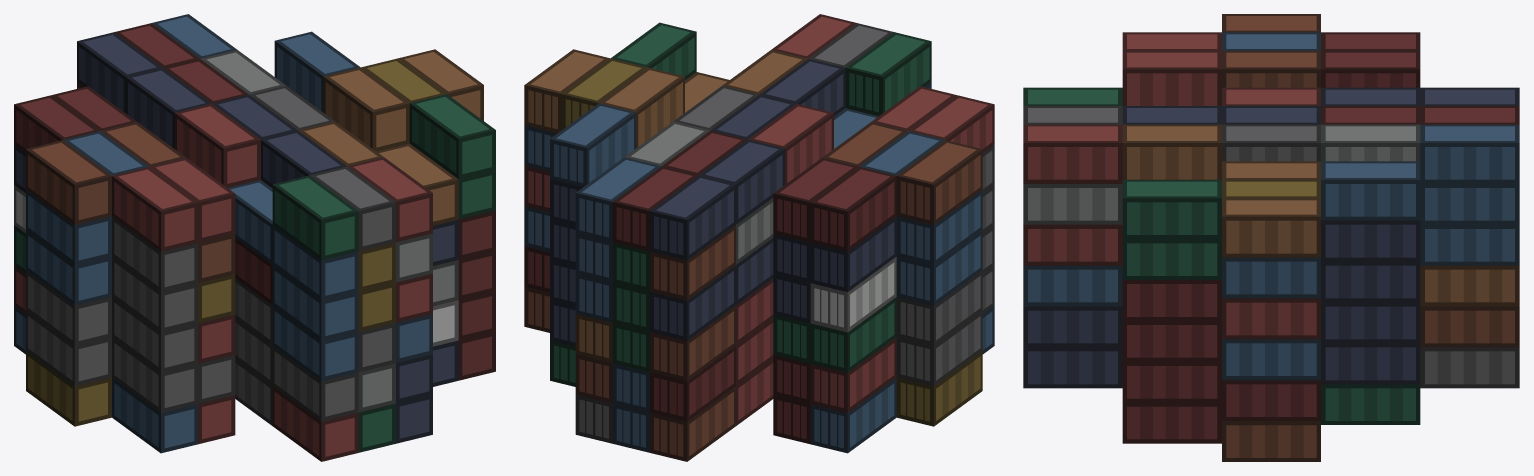
File: heavy-rows.glb
3 views of the same model, side by side, from view 1: azimuth 30°, elevation 25°; view 2: azimuth 150°, elevation 25°; view 3: azimuth 270°, elevation 25° (orthographic).
Parts seen in each view (by area): view 1: heavy-rows; view 2: heavy-rows; view 3: heavy-rows.
Boxes of the visible parts, x1,y1,x2,y2 form: heavy-rows: (14,14,495,461); heavy-rows: (524,14,994,461); heavy-rows: (1023,14,1519,461).
Bounding box in the file's own units: 63.8 × 36 × 66.
